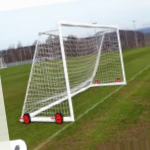goals: (17, 20, 126, 122)
